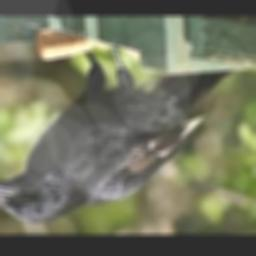Crow: (0, 42, 237, 224)
